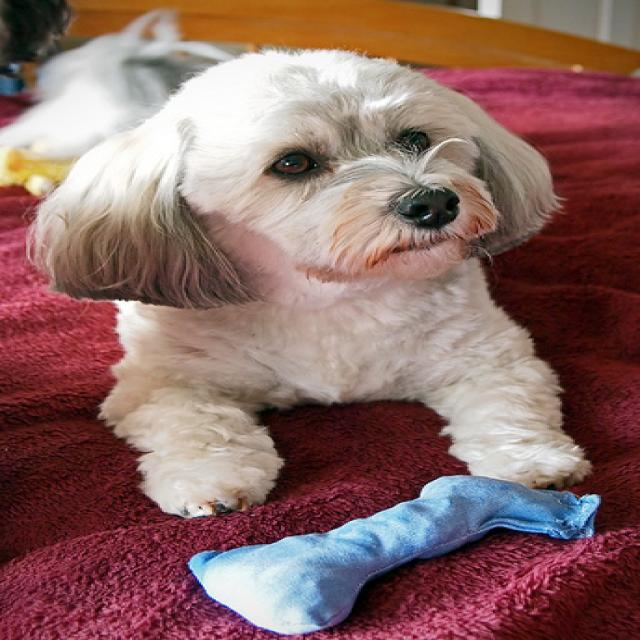dog-havanese: (2, 41, 608, 529)
